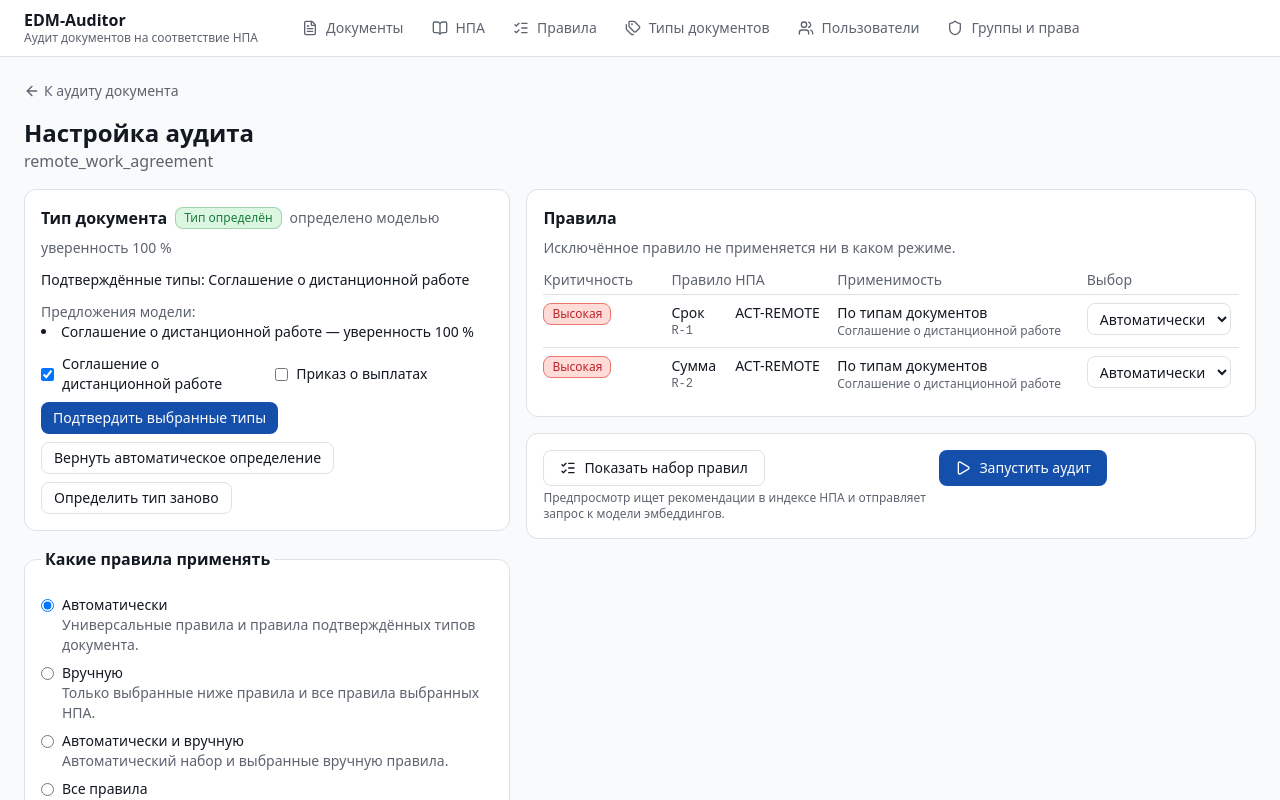
Test case: audit configuration › runs all rules only after an explicit confirmation
This screenshot has width=1280, height=800.
Click the radio button labelled "Все правила". click: (48, 790)
box: x1=41 y1=783 x2=54 y2=796
(page scrolled)
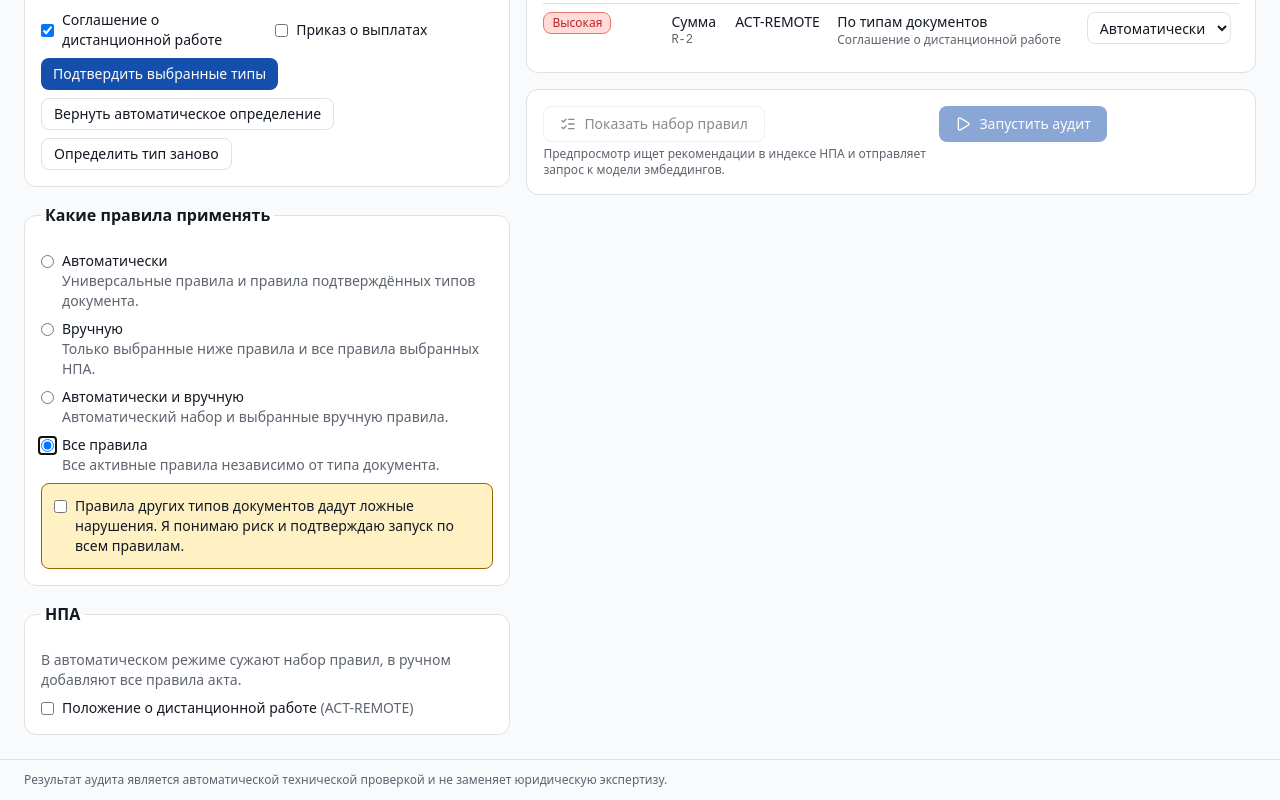
expect the button "Запустить аудит" is disabled: met, box x1=939 y1=106 x2=1107 y2=142
Click the checkbox labelled "Я понимаю риск". click: (60, 506)
box: x1=54 y1=500 x2=67 y2=513
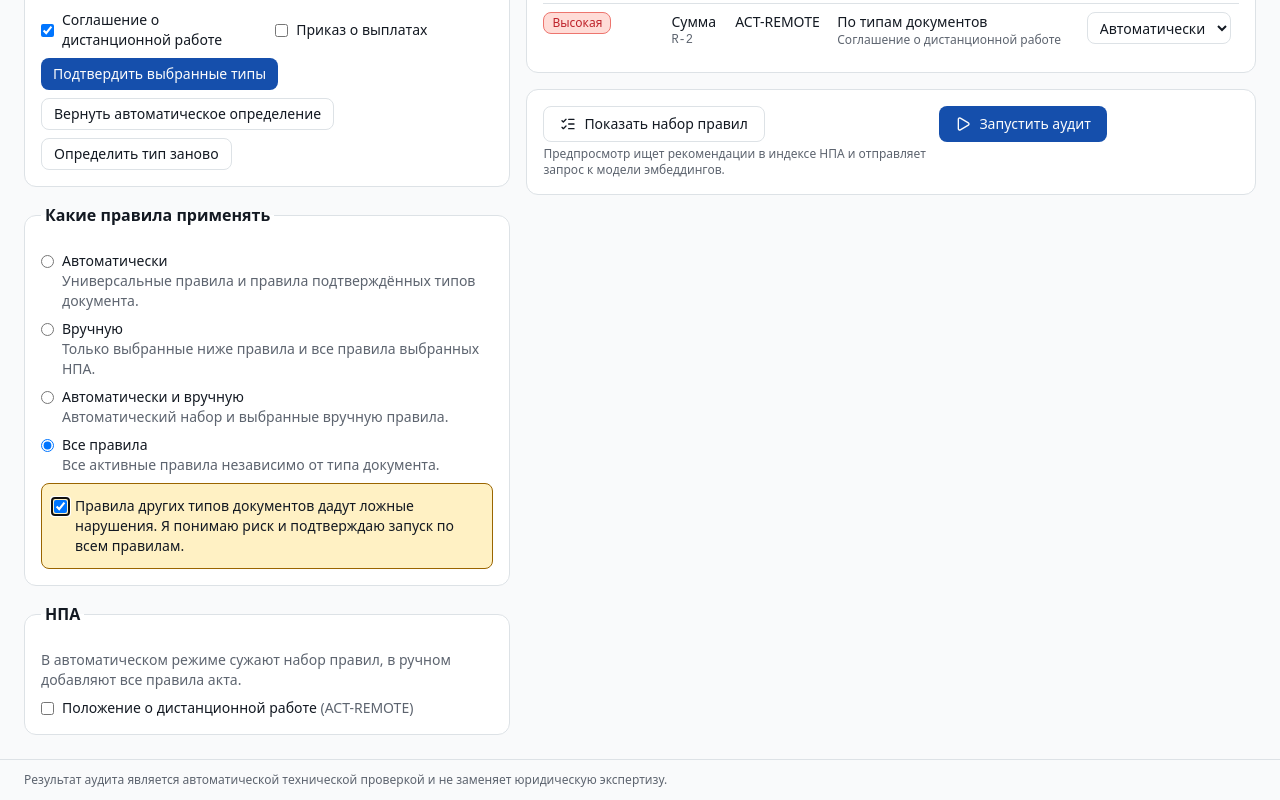
expect the button "Запустить аудит" is enabled: met, box x1=939 y1=106 x2=1107 y2=142
